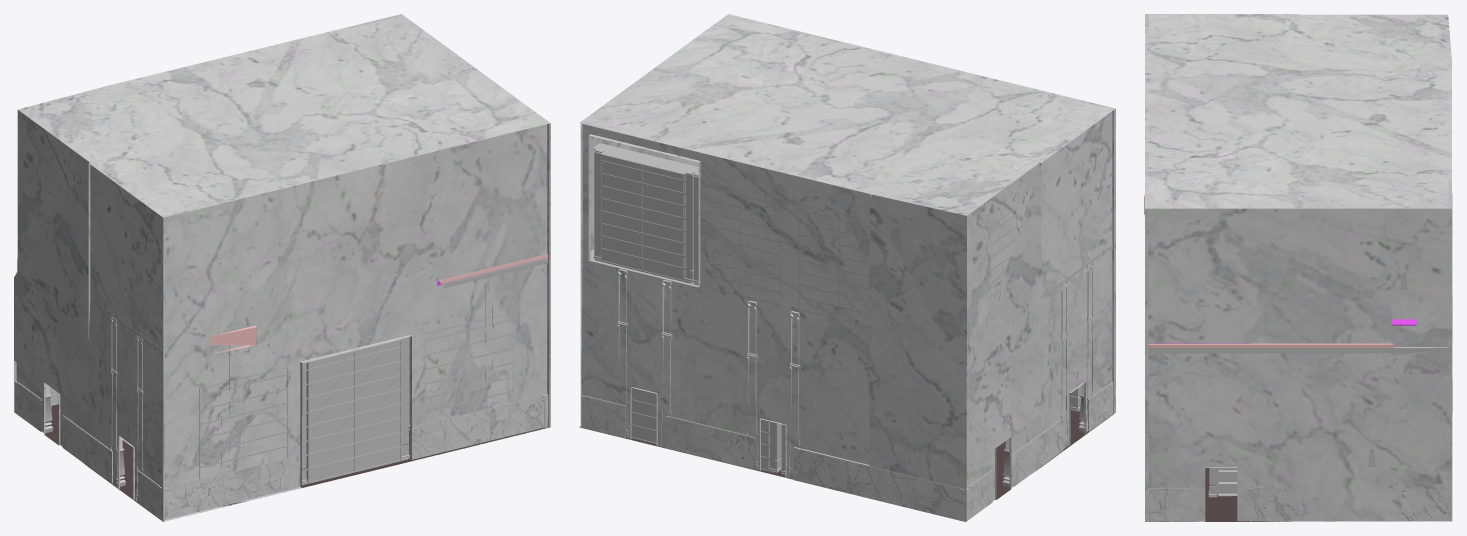
File: LibraryTile.fbx
3 renders of one model, left to right at view 1: azimuth 30°, elevation 25°; view 2: azimuth 150°, elevation 25°; view 3: azimuth 270°, elevation 25°, orthographic. The views are drawn at different scales.
Parts seen in each view (by area): view 1: LibraryTile, ShelfBThin__5_, ShelfBThin__9_, ShelfBThin__10_; view 2: LibraryTile, ShelfBThin__7_, ShelfBThin__2_, ShelfBThin__1_, ShelfBThin__6_, ShelfBThin__4_, ShelfAThin__1_; view 3: LibraryTile, ShelfB__3_, BooksTexSide__3_.
Part boxes in pixels (x1,y1,x2,y2): LibraryTile: (14,14,550,521); ShelfBThin__5_: (302,337,409,485); ShelfBThin__9_: (199,367,288,478); ShelfBThin__10_: (409,311,513,451); LibraryTile: (579,14,1115,521); ShelfBThin__7_: (593,143,698,283); ShelfBThin__2_: (692,169,781,305); ShelfBThin__1_: (798,203,869,327); ShelfBThin__6_: (631,388,656,444); ShelfBThin__4_: (761,419,781,472); ShelfAThin__1_: (891,207,1017,315); LibraryTile: (1144,14,1452,521); ShelfB__3_: (1208,468,1237,497); BooksTexSide__3_: (1218,468,1237,493).
Size of the model in its own units: 2408 by 1841 by 1607.
